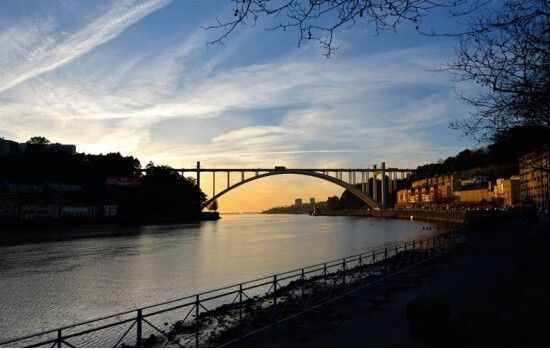arrabida: (139, 161, 425, 209)
